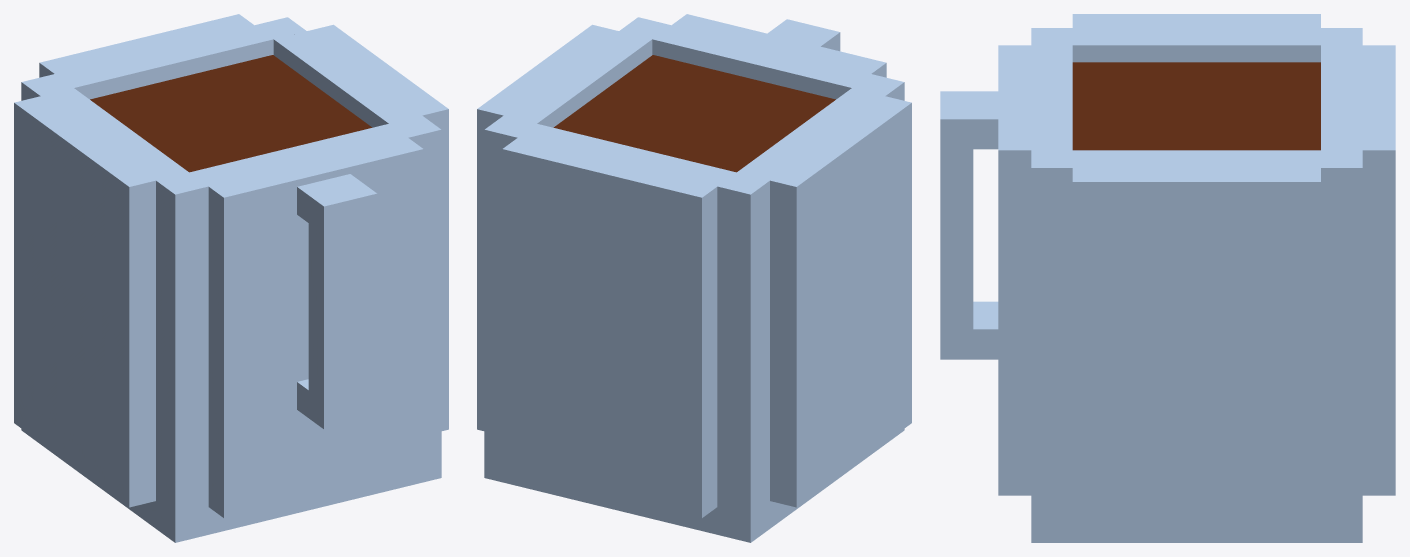
File: mug.obj
3 renders of one model, left to right at view 1: azimuth 30°, elevation 25°; view 2: azimuth 150°, elevation 25°; view 3: azimuth 270°, elevation 25°, orthographic. The views are drawn at different scales.
Visible parts, largest first — view 1: cube; view 2: cube; view 3: cube.
Part boxes in pixels (x1=…): cube: x1=14, y1=14, x2=448, y2=542; cube: x1=477, y1=14, x2=911, y2=542; cube: x1=940, y1=14, x2=1395, y2=542.
Bounding box in the file's own units: 0.6 × 0.625 × 0.6875.
